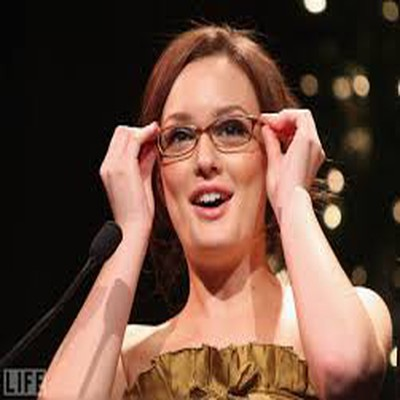eywear: (142, 107, 296, 161)
